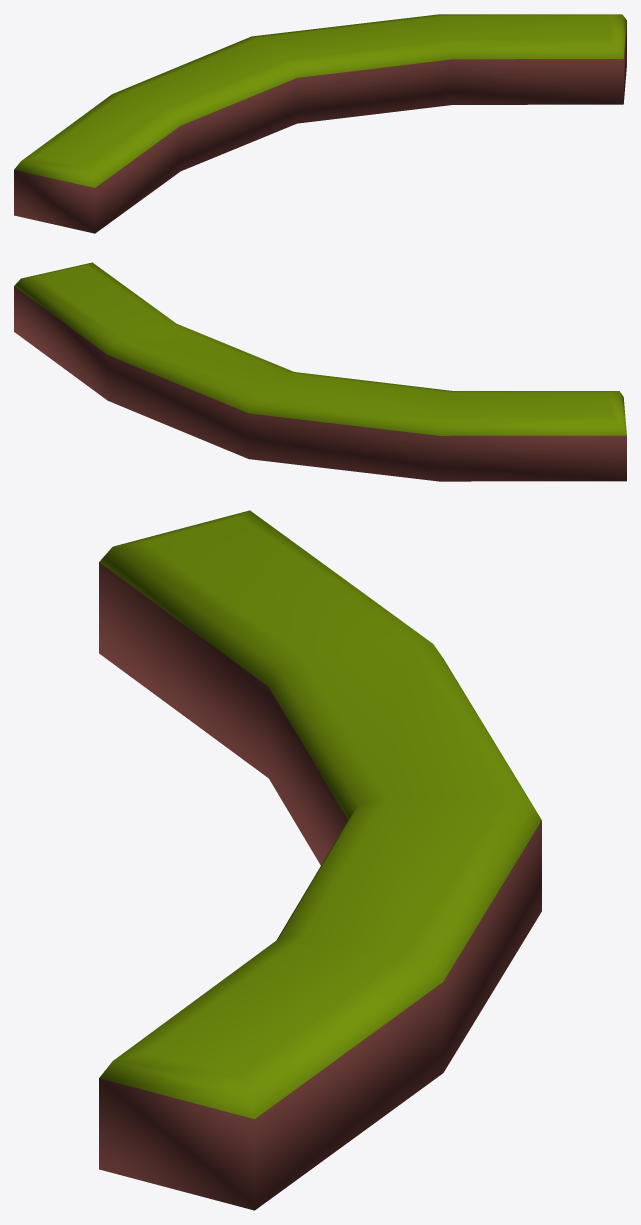
The model's file is VR.fbx_tierra.fbx.
3 views of the same model, one above another, from view 1: azimuth 30°, elevation 25°; view 2: azimuth 150°, elevation 25°; view 3: azimuth 270°, elevation 25° (orthographic). The views are drawn at different scales.
Visible parts, largest first — view 1: tierra; view 2: tierra; view 3: tierra.
Part boxes in pixels (x1=…): tierra: x1=14, y1=14, x2=626, y2=233; tierra: x1=14, y1=262, x2=626, y2=481; tierra: x1=99, y1=510, x2=541, y2=1210.
Size of the model in its own units: 538 by 47.93 by 168.
